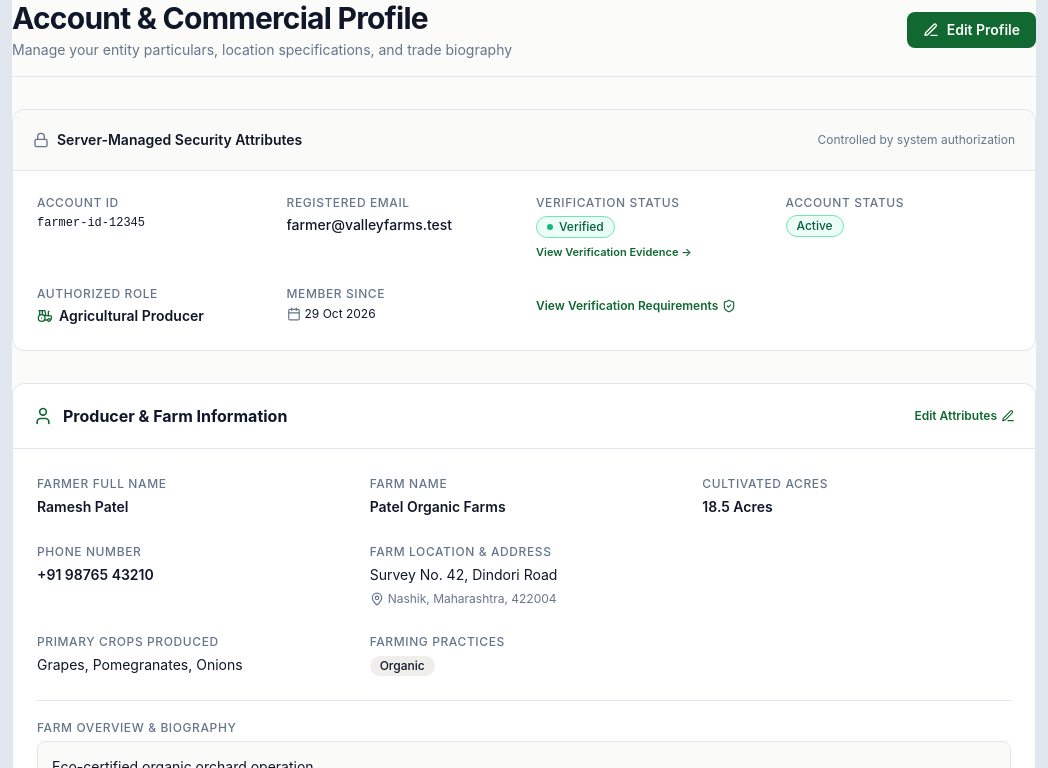
it: ProfilePage › validates positive farm acreage in edit mode
Click the button "Edit Profile" at (971, 30), box [907, 12, 1036, 48]
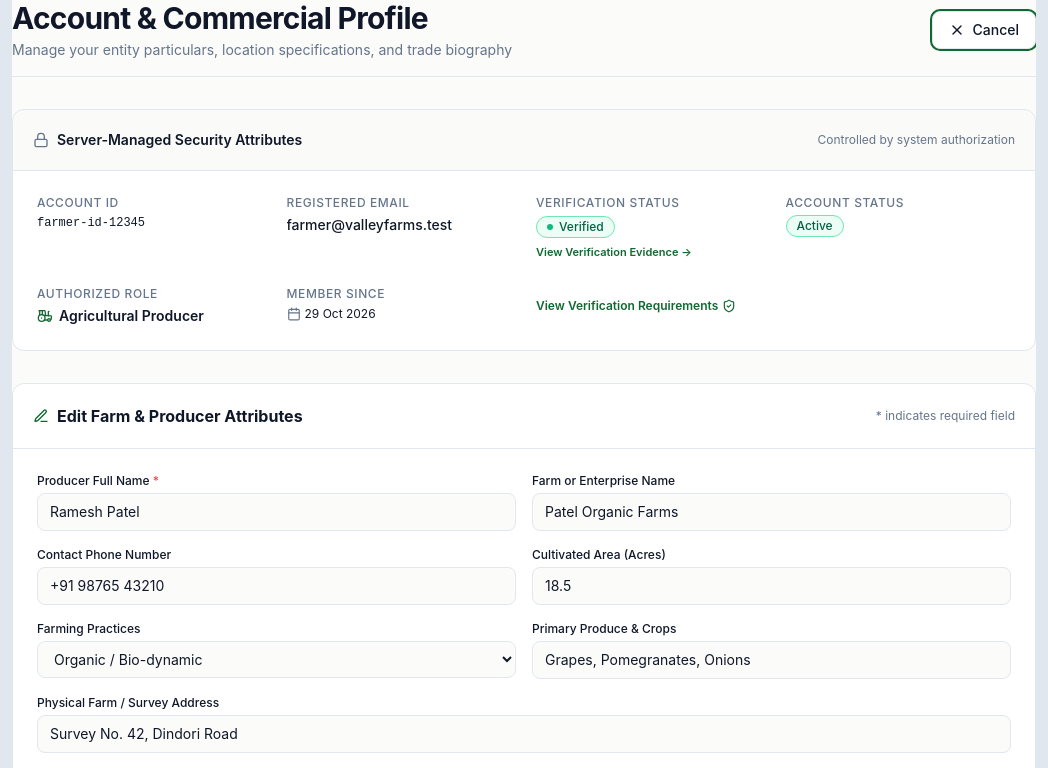
Replace the text in the number field labelled "Cultivated Area (Acres)" with "-5" at (772, 586), box [532, 567, 1011, 605]
(page scrolled)
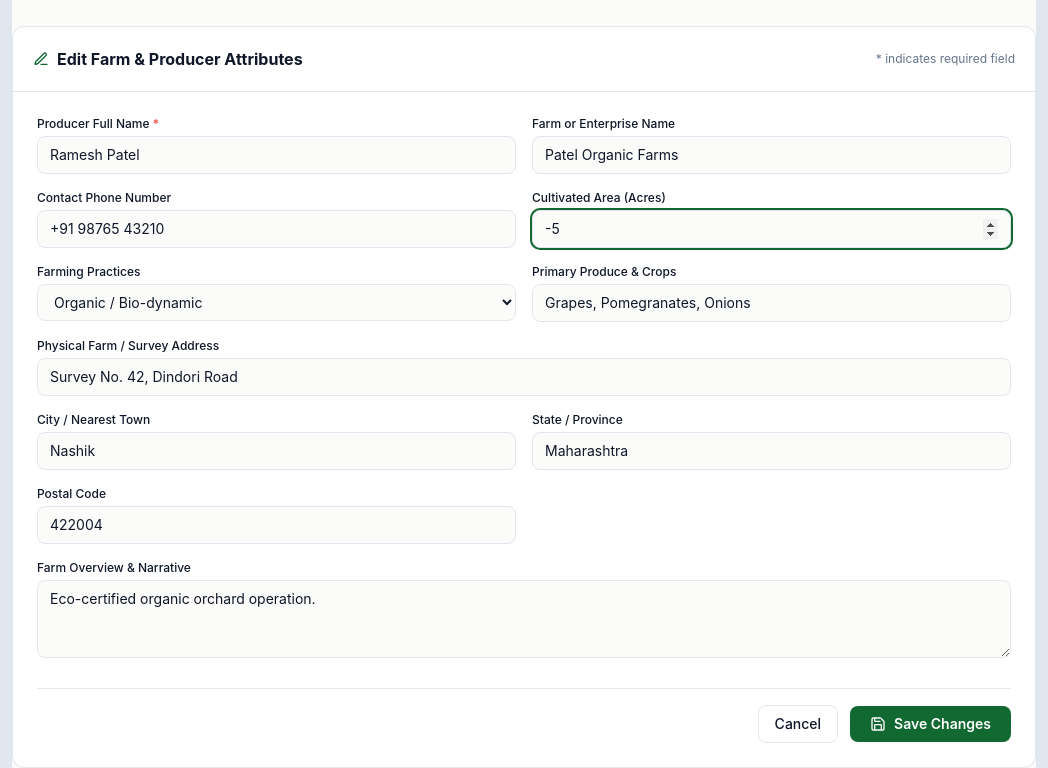
Click the button "Save Changes" at (931, 724), box [850, 706, 1011, 742]
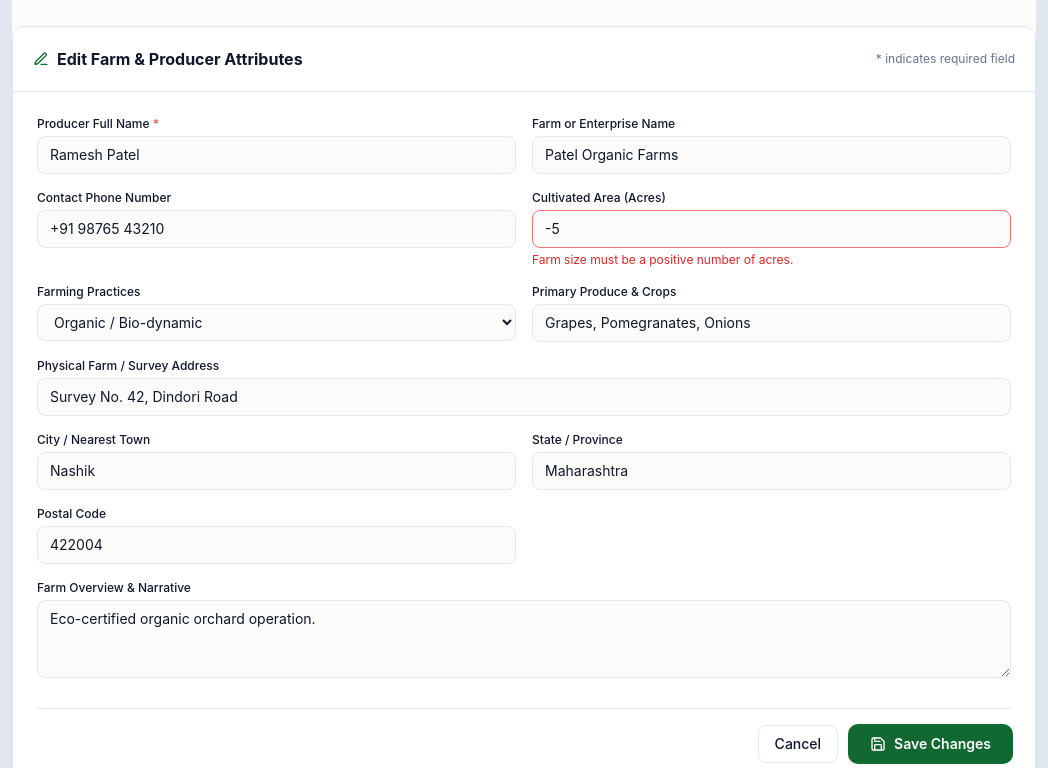
Expected: the text "Farm size must be a positive number of acres." is shown, [532, 252, 793, 267]
